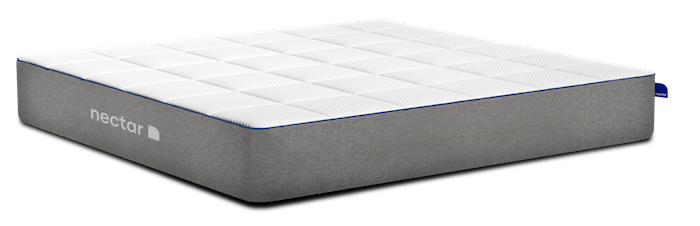bed: (15, 38, 682, 219)
